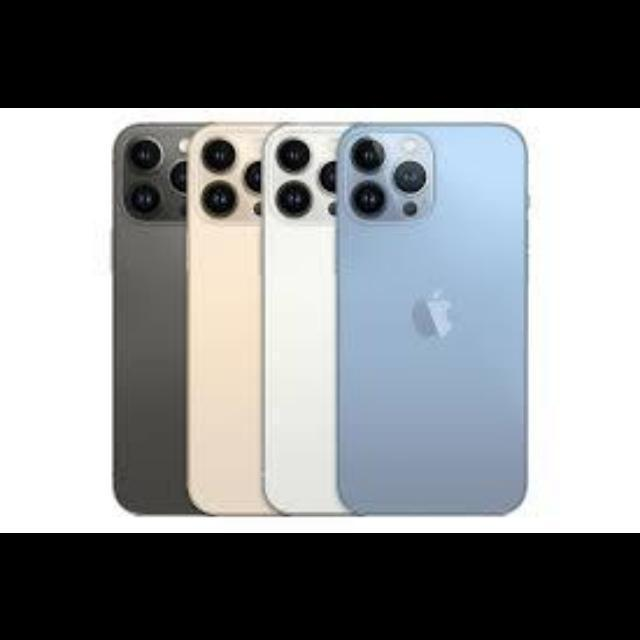phone: (292, 114, 537, 512)
